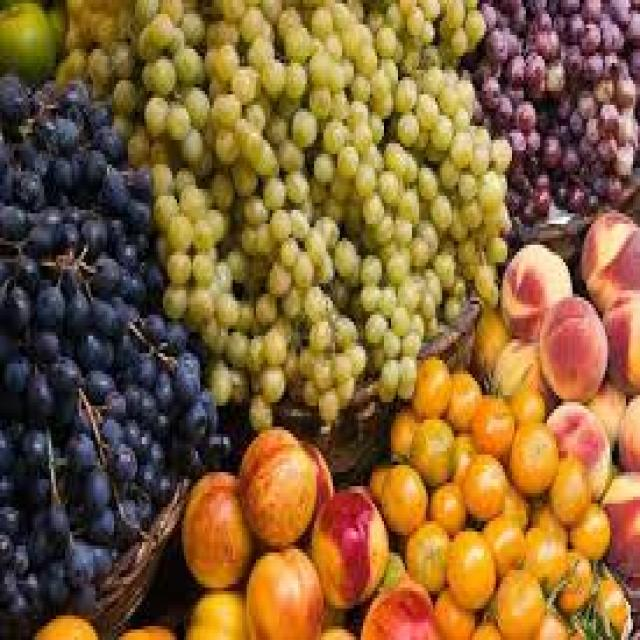organic: (169, 17, 475, 310), (0, 83, 175, 562), (202, 458, 398, 624)
